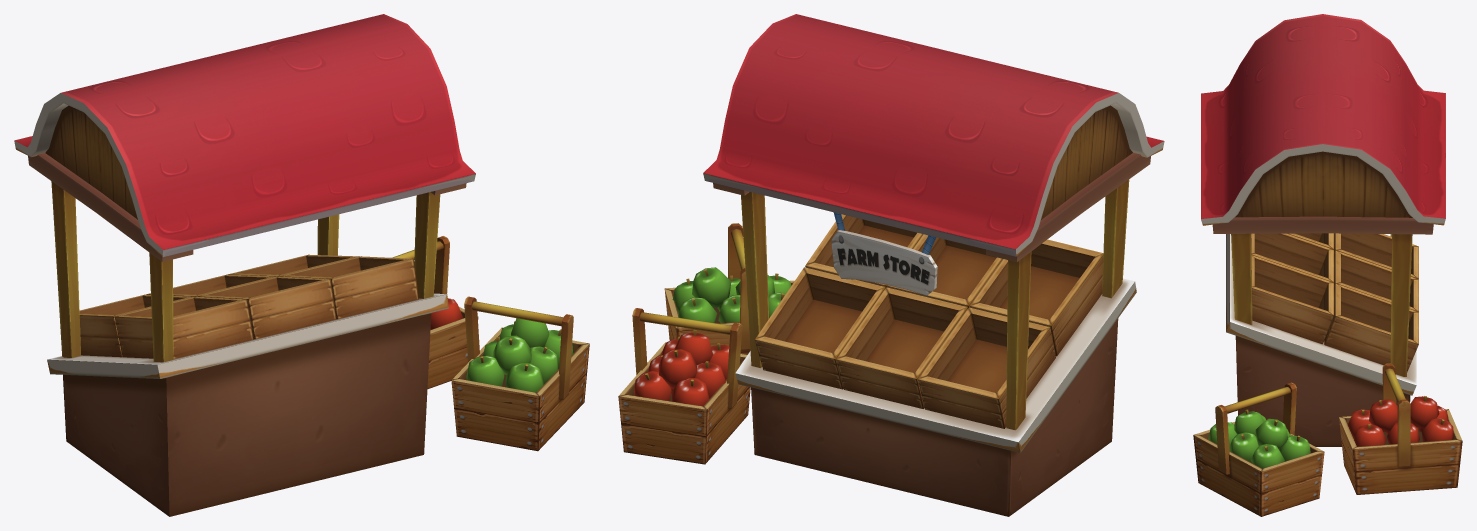
Rendered from festivalBin.gltf.
3 renders of one model, left to right at view 1: azimuth 30°, elevation 25°; view 2: azimuth 150°, elevation 25°; view 3: azimuth 270°, elevation 25°, orthographic. The views are drawn at different scales.
Parts seen in each view (by area): view 1: farmstore; view 2: farmstore; view 3: farmstore.
Part boxes in pixels (x1,y1,x2,y2): farmstore: [14, 14, 589, 516]; farmstore: [618, 14, 1164, 516]; farmstore: [1193, 14, 1462, 516].
Size of the model in its own units: 2.25 by 1.77 by 1.36.
Materials: 1 (1 with a texture image).
